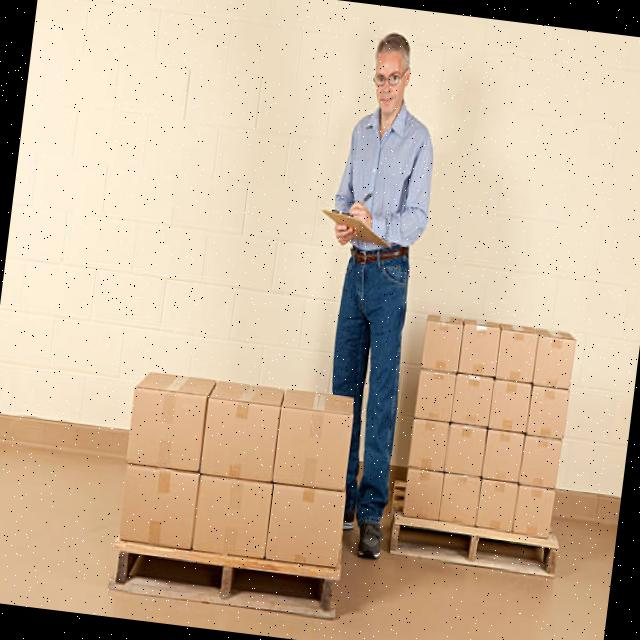Wooden-Pallets: (106, 544, 347, 625), (387, 516, 562, 578)
